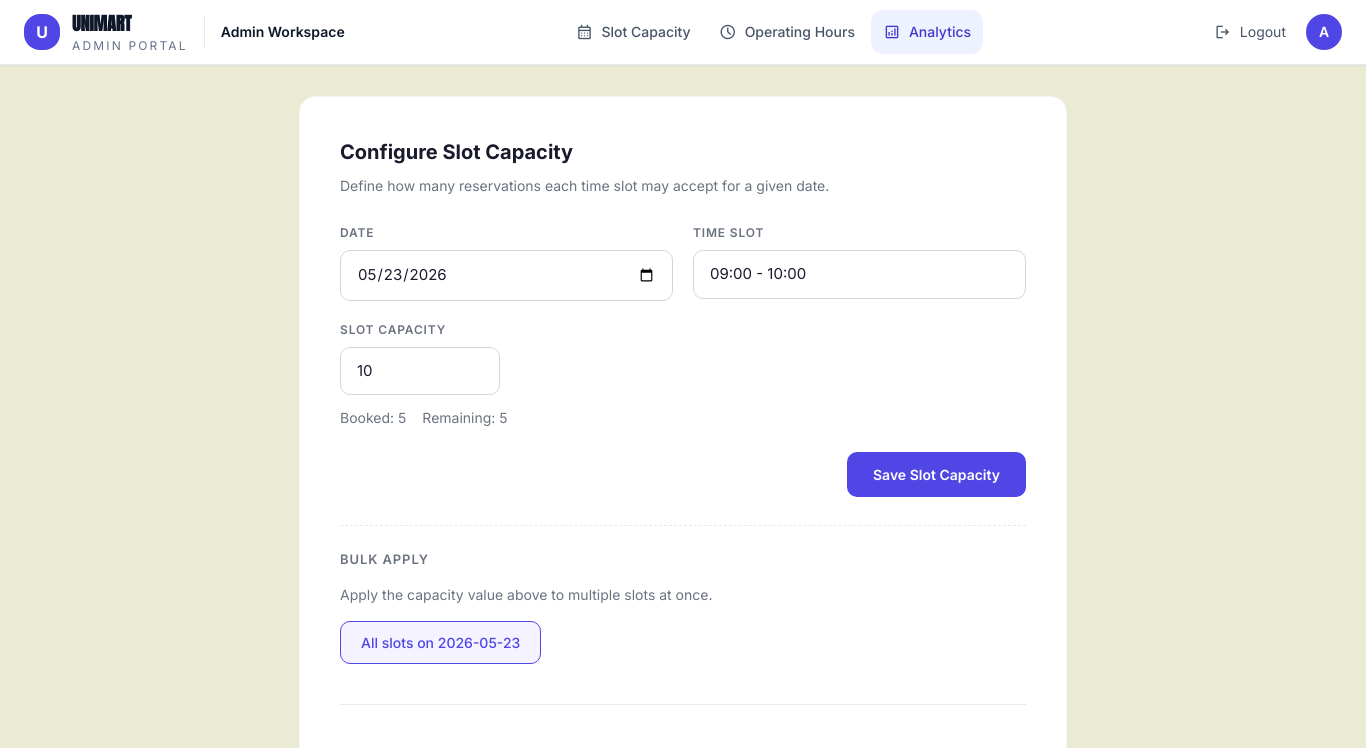
it: AdminDashboard coverage – slot capacity › saves slot capacity successfully
Replace the text in the number field with "8" at (420, 371), box [340,346,500,395]
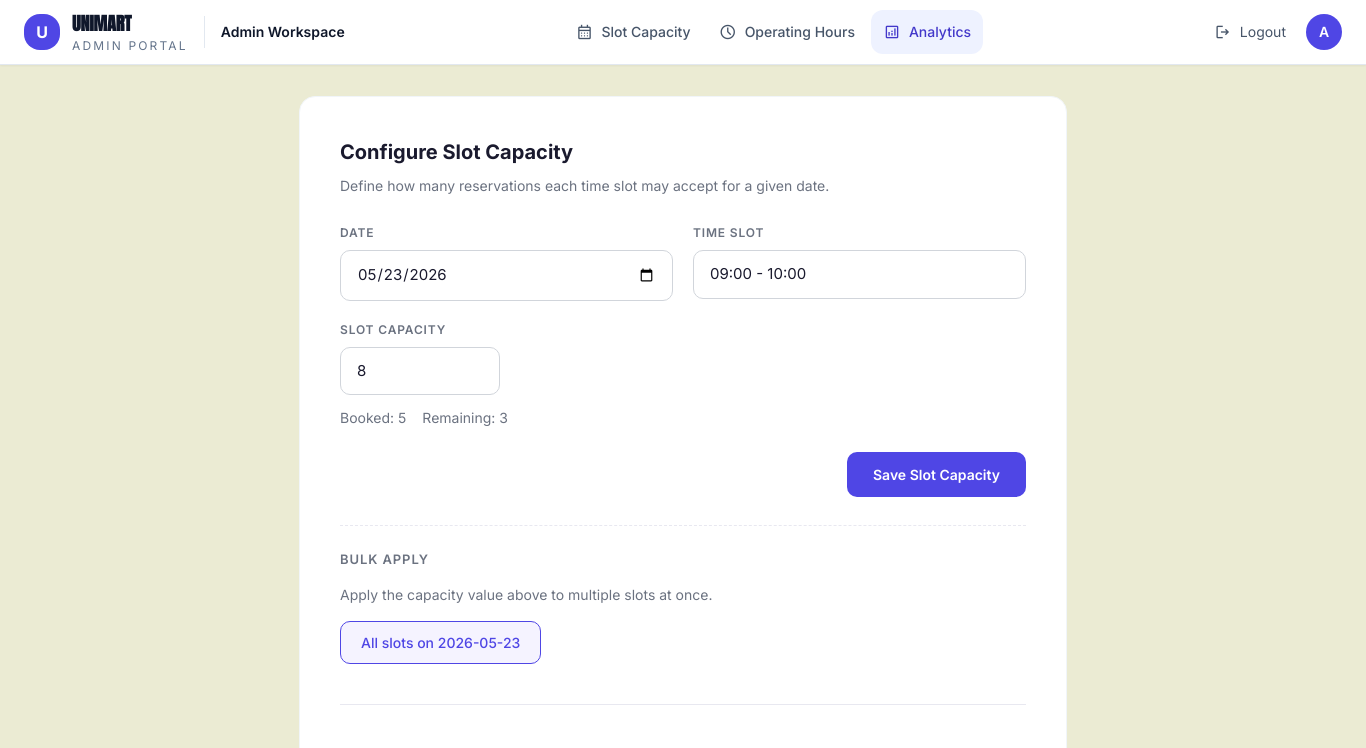
Click the button "Save Slot Capacity" at (936, 474), box [847,452,1026,497]
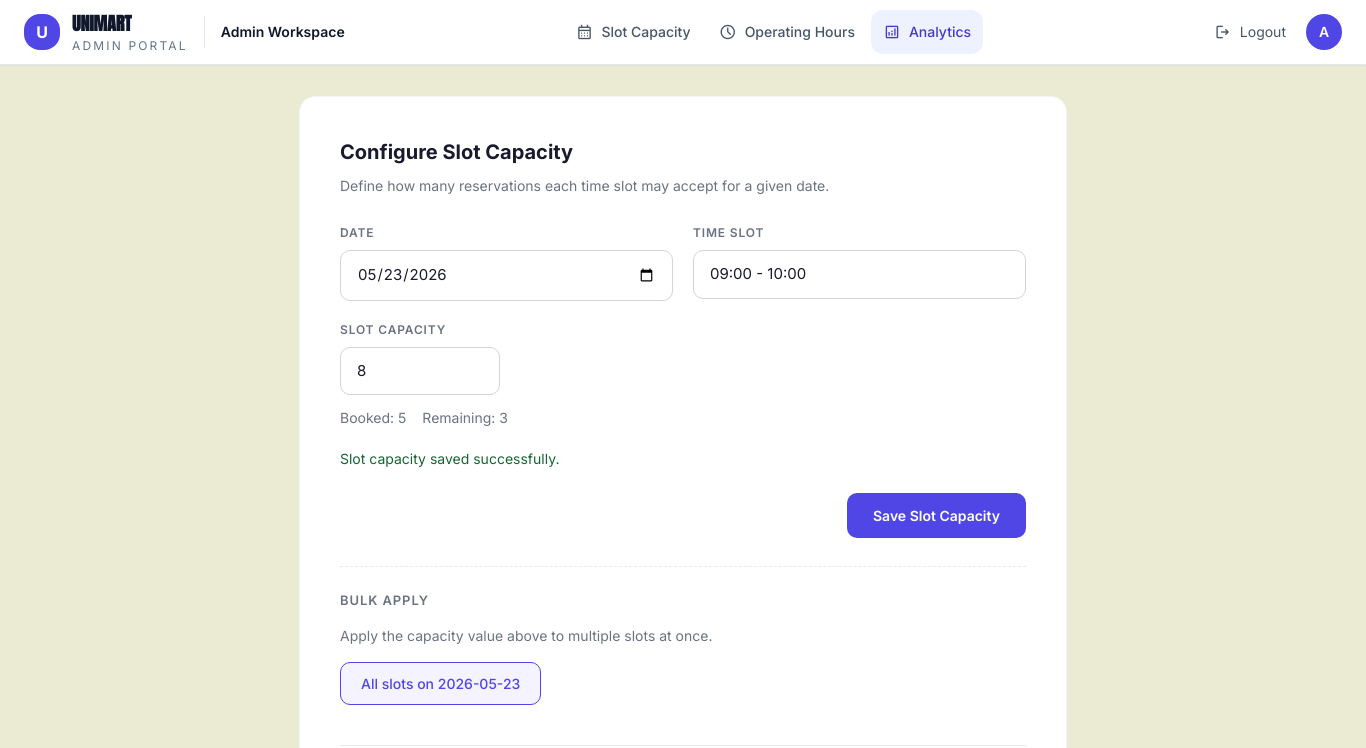
Result: the text "Slot capacity saved successfully." is shown at [340,450,559,467]
